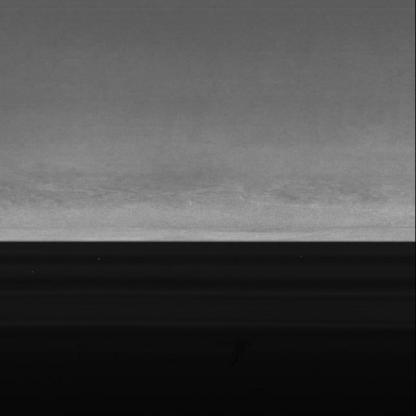silk_spot: (34, 157, 374, 213)
